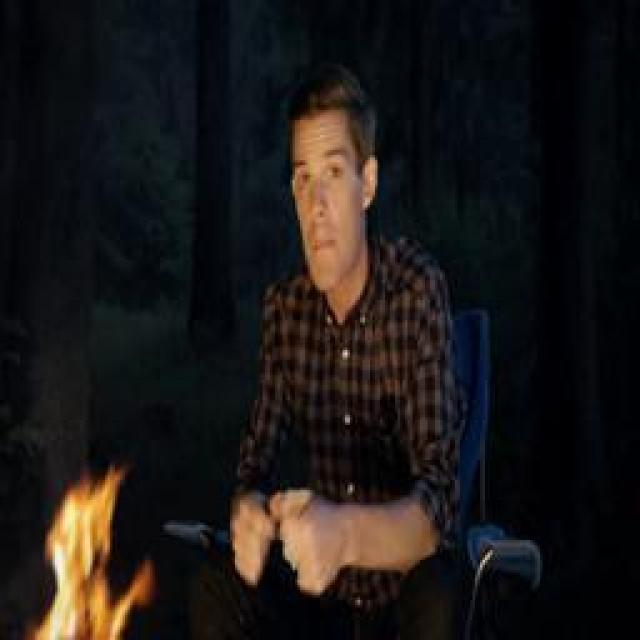Fire: (32, 465, 156, 640)
